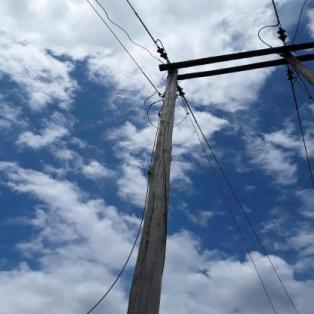Poste: (120, 59, 185, 313), (271, 45, 314, 83)
